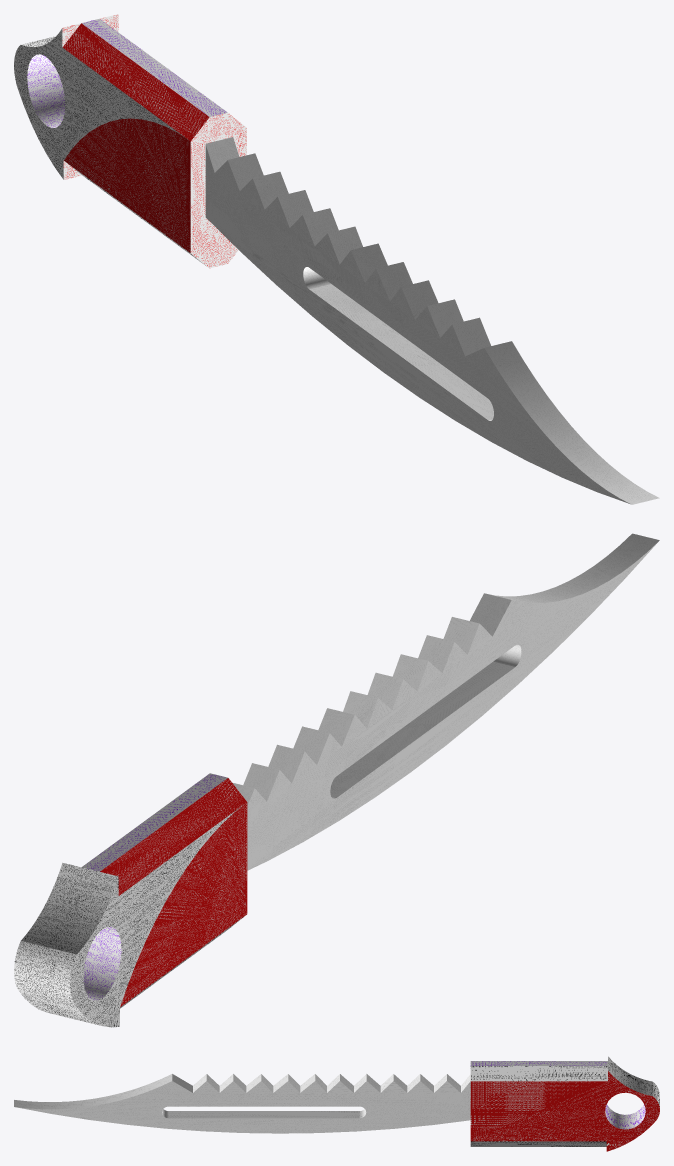
File: model_scale.obj
The picture shows the model from 3 angles, top to bottom: view 1: azimuth 30°, elevation 25°; view 2: azimuth 150°, elevation 25°; view 3: azimuth 270°, elevation 25°; orthographic projection. The views are drawn at different scales.
Parts seen in each view (by area): view 1: mesh1_mesh1-geometry; view 2: mesh1_mesh1-geometry; view 3: mesh1_mesh1-geometry.
Boxes of the visible parts, <box> form: mesh1_mesh1-geometry: <box>14,14,659,504</box>; mesh1_mesh1-geometry: <box>14,533,659,1027</box>; mesh1_mesh1-geometry: <box>14,1056,659,1151</box>.
Size of the model in its own units: 0.0131 by 0.0337 by 0.244.
